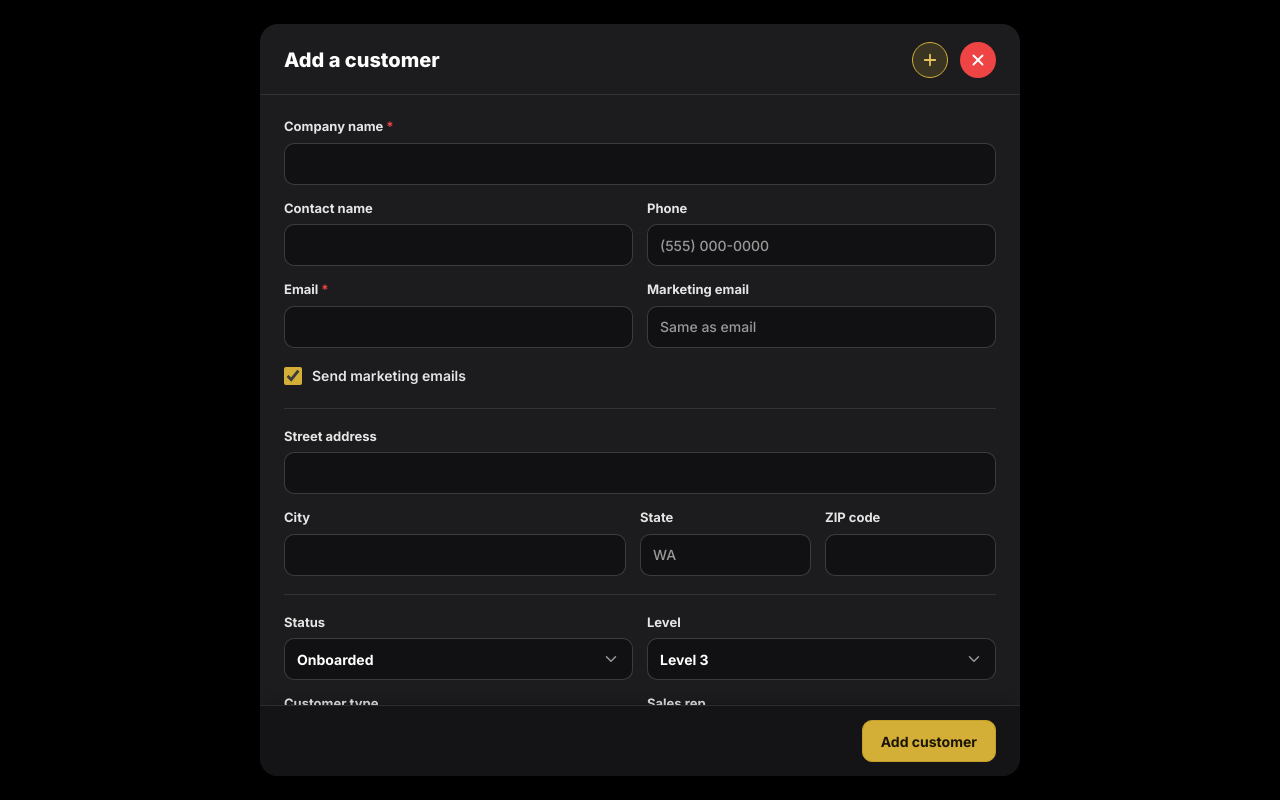
Add / Edit customer › opens the business-card menu
Click the button with class "cf-plus-btn" at coordinates (930, 60), box left=912, top=42, right=948, bottom=78
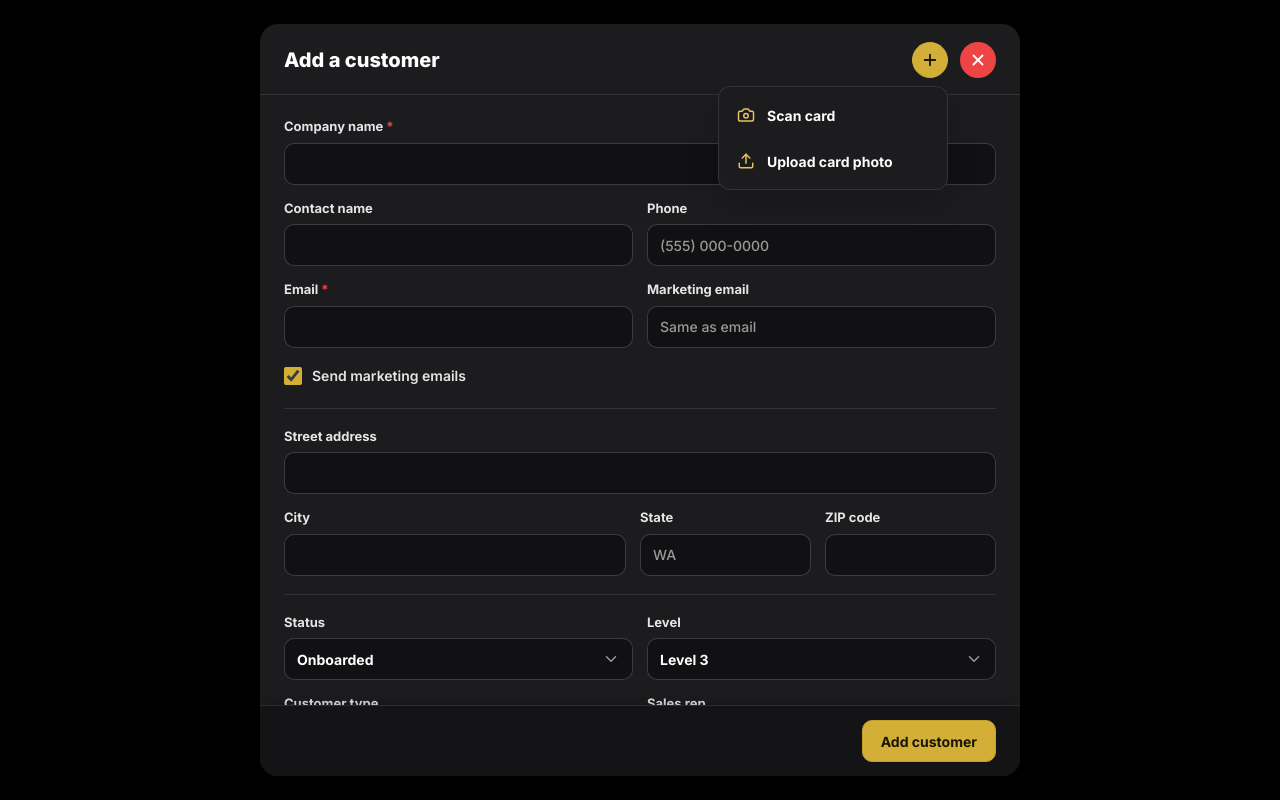
Result: the text "Scan card" is shown at left=767, top=104, right=835, bottom=126
Result: the text "Upload card photo" is shown at left=767, top=150, right=893, bottom=172
